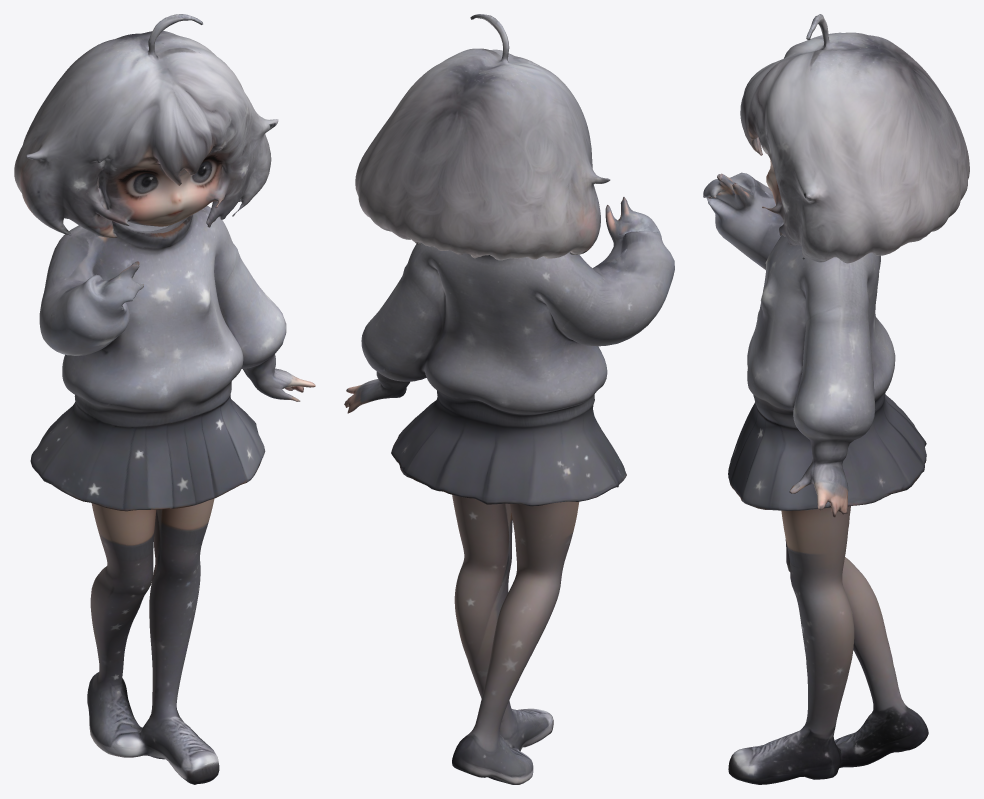
File: anime_short_fluffy__1016015946_refine.glb
3 views of the same model, side by side, from view 1: azimuth 30°, elevation 25°; view 2: azimuth 150°, elevation 25°; view 3: azimuth 270°, elevation 25° (orthographic). The views are drawn at different scales.
Bounding box in the file's own units: 0.8221 × 2 × 0.6314.
Materials: 1 (1 with a texture image).
